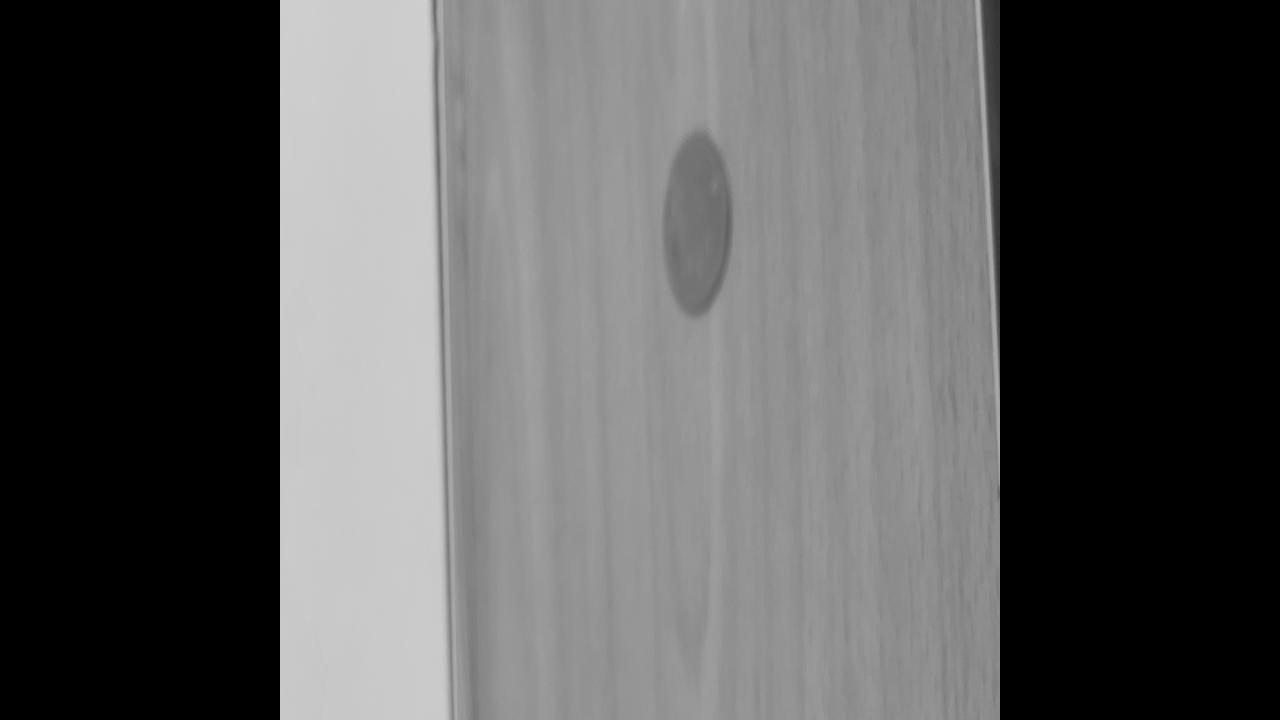coin: (661, 127, 731, 316)
